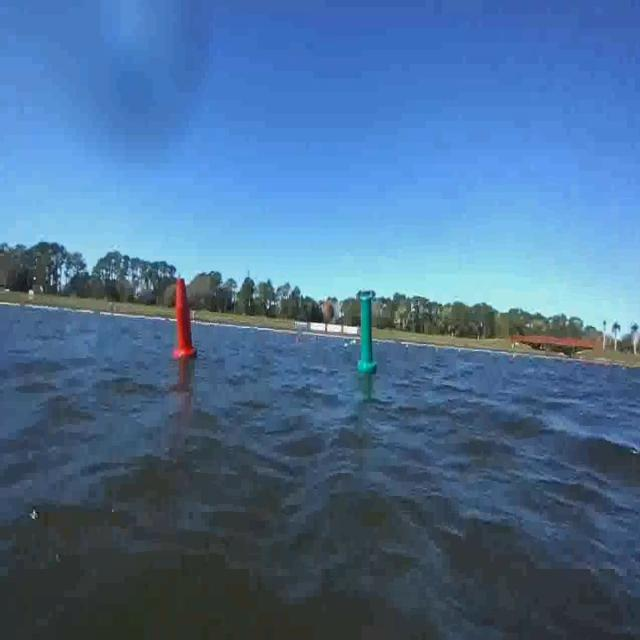green-column-buoy: (357, 294, 377, 374)
red-column-buoy: (171, 276, 196, 359)
